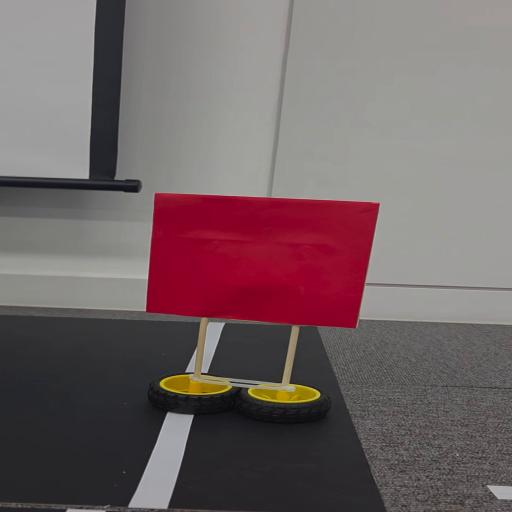Sign_A: (125, 188, 395, 422)
